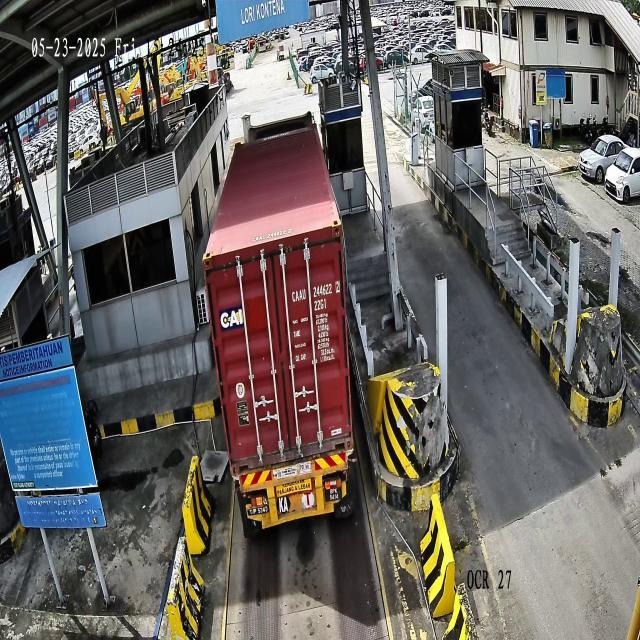ISO: (314, 298, 327, 312)
container_number: (292, 279, 341, 303)
